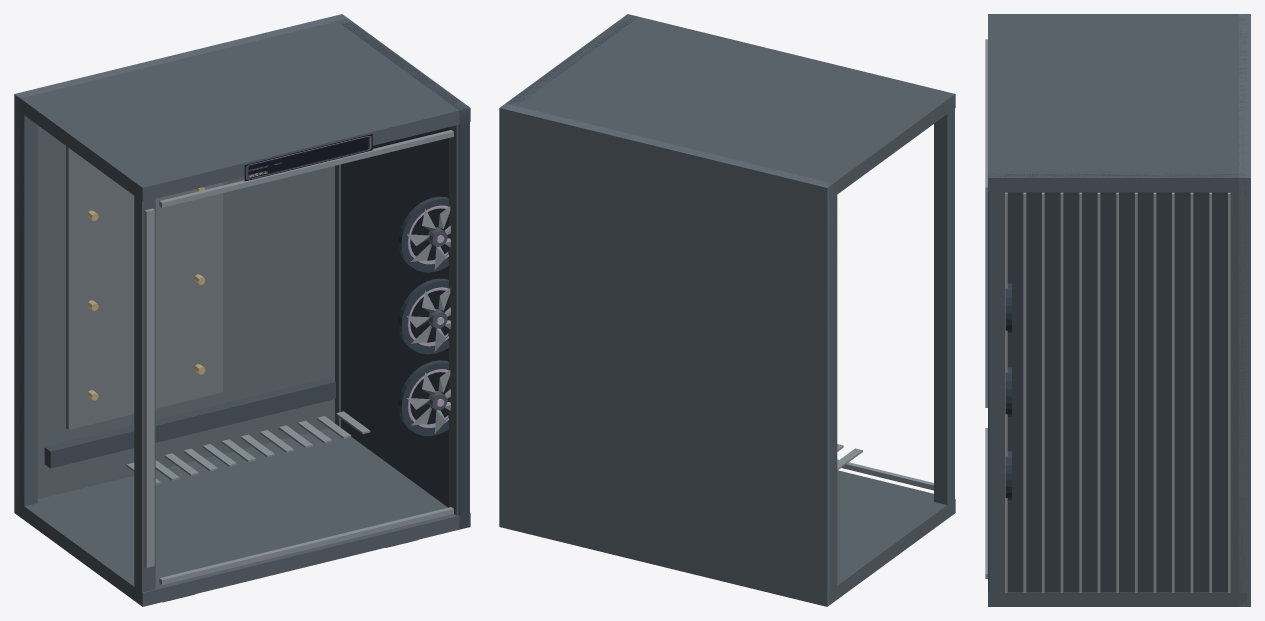
File: case_chasis_nzxt_h5_flow_rgb_mid_tower.glb
3 renders of one model, left to right at view 1: azimuth 30°, elevation 25°; view 2: azimuth 150°, elevation 25°; view 3: azimuth 270°, elevation 25°, orthographic. The views are drawn at different scales.
Visible parts, largest first — view 1: n2, n1, n3, n5, n9, n7, n10, n8, n12, n0, n11, n13; view 2: n1, n2, n3, n9; view 3: n3, n2, n4, n1, n9, n10.
Boxes of the visible parts, bbox=[...] form: n2: bbox=[16, 15, 470, 606]; n1: bbox=[14, 14, 347, 516]; n3: bbox=[335, 19, 469, 529]; n5: bbox=[66, 146, 222, 429]; n9: bbox=[144, 130, 453, 584]; n7: bbox=[44, 377, 335, 468]; n10: bbox=[398, 196, 448, 436]; n8: bbox=[126, 411, 370, 484]; n12: bbox=[407, 206, 450, 433]; n0: bbox=[244, 134, 372, 181]; n11: bbox=[407, 205, 448, 427]; n13: bbox=[428, 227, 447, 410]; n1: bbox=[499, 103, 833, 606]; n2: bbox=[502, 14, 955, 605]; n3: bbox=[503, 15, 638, 108]; n9: bbox=[837, 459, 933, 490]; n3: bbox=[988, 172, 1246, 592]; n2: bbox=[988, 14, 1247, 606]; n4: bbox=[1005, 192, 1230, 592]; n1: bbox=[1238, 14, 1250, 606]; n9: bbox=[985, 39, 987, 578]; n10: bbox=[1005, 283, 1011, 500].
Bounding box in the file's own units: 1.76 × 2.18 × 1.18.
1 material, 1 textured.
